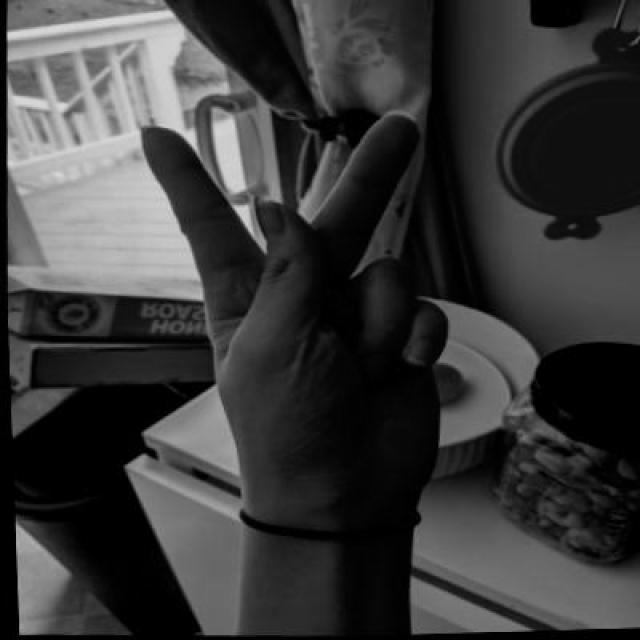K: (116, 99, 470, 520)
